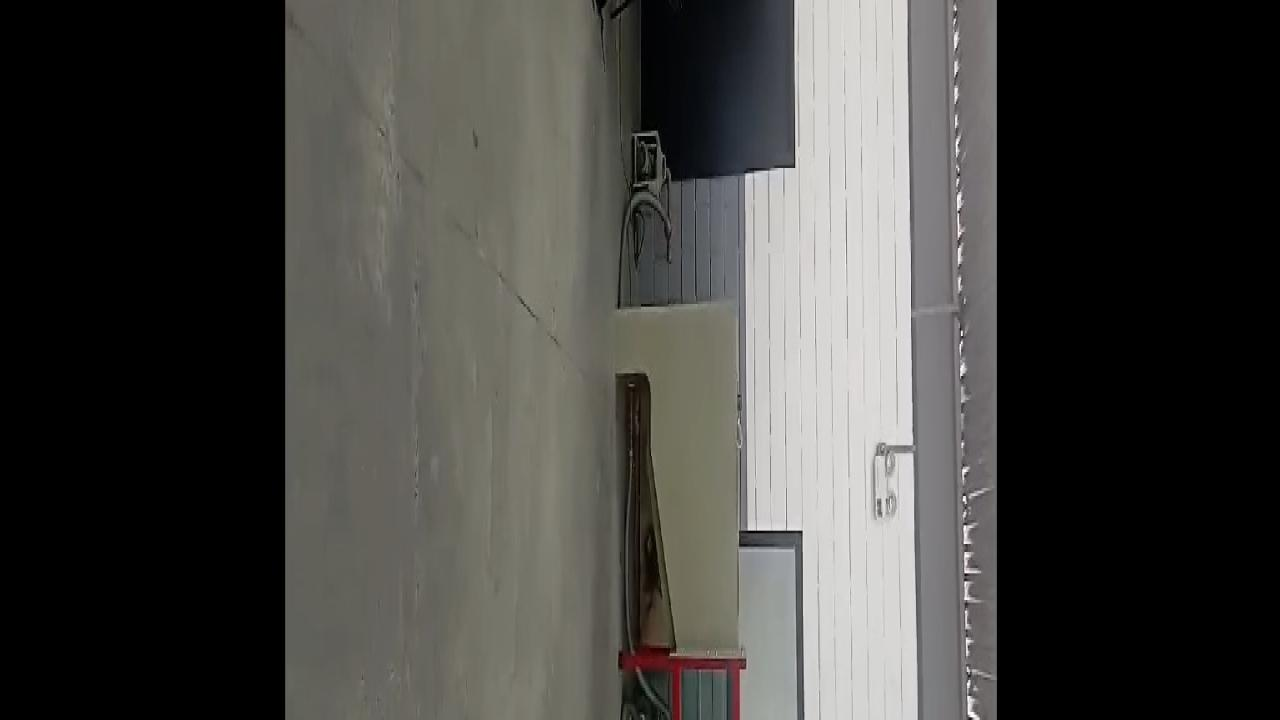Cube: (736, 392, 741, 412)
